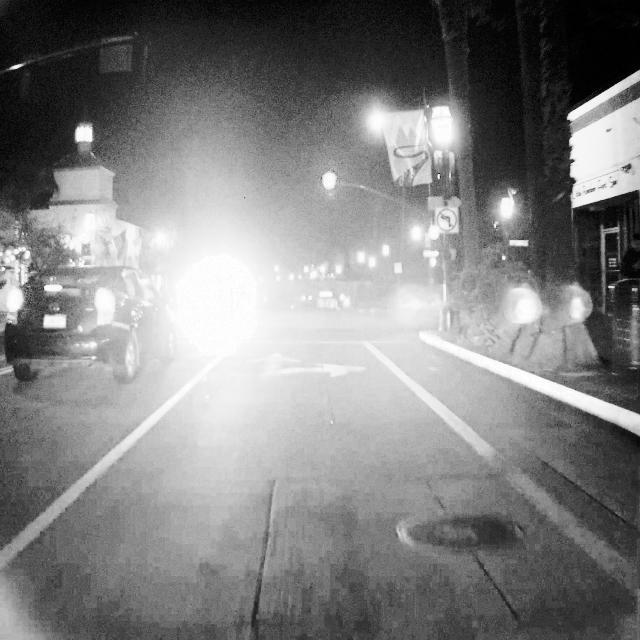Car: (8, 268, 178, 386)
Light: (323, 171, 337, 212)
Tree: (502, 0, 610, 382), (435, 2, 490, 351)
